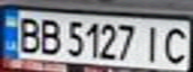1: (81, 19, 100, 58)
2: (96, 20, 121, 61)
5: (63, 18, 84, 57)
7: (115, 20, 142, 62)
B: (12, 14, 45, 54), (36, 16, 63, 56)
C: (160, 24, 193, 65)
I: (139, 22, 169, 64)
